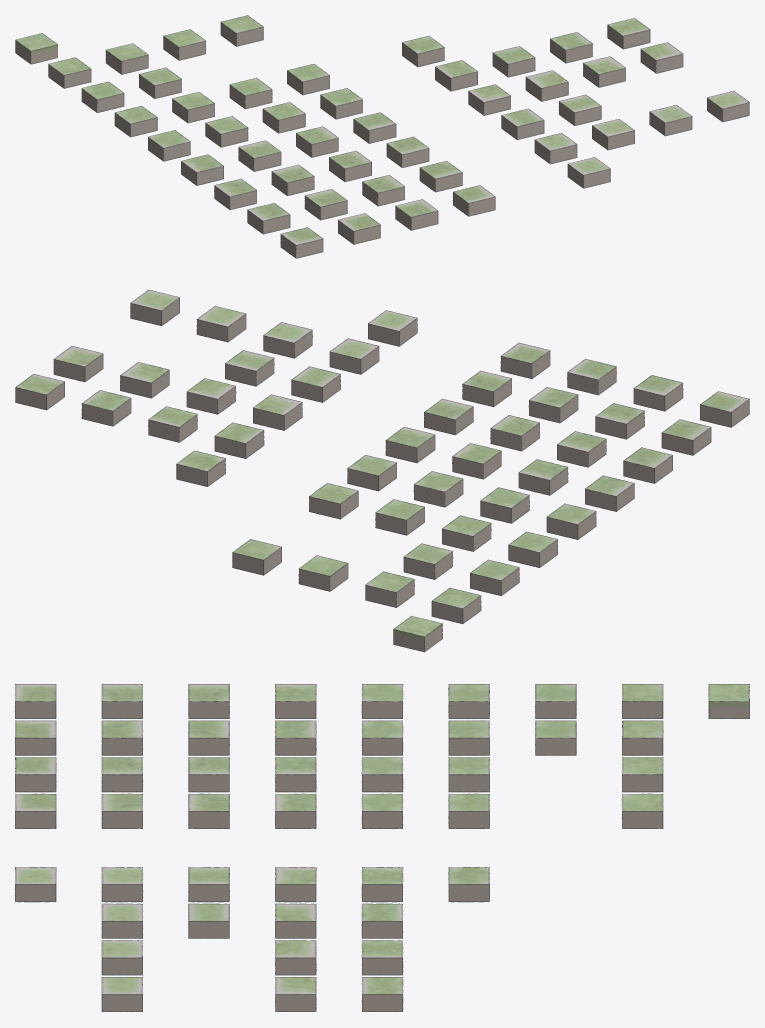
File: Grass.fbx
3 renders of one model, top to bottom at view 1: azimuth 30°, elevation 25°; view 2: azimuth 150°, elevation 25°; view 3: azimuth 270°, elevation 25°, orthographic. The views are drawn at different scales.
Visible parts, largest first — view 1: Grass-8, Grass-29, Grass-1, Grass-36, Grass-38, Grass-5, Grass-18, Grass-20, Grass-27, Grass-33, Grass-0, Grass-3 (+35 smaller); view 2: Grass-10, Grass-20, Grass-1, Grass-32, Grass-42, Grass-31, Grass-17, Grass-11, Grass-13, Grass-29, Grass-3, Grass-19 (+35 smaller); view 3: Grass-22, Grass-25, Grass-41, Grass-44, Grass-3, Grass-9, Grass-17, Grass-18, Grass-29, Grass-30, Grass-37, Grass-38 (+35 smaller).
Boxes of the visible parts, box(x1,y1,x2,y2) form: Grass-8: box(525, 70, 568, 101); Grass-29: box(238, 140, 281, 171); Grass-1: box(534, 133, 577, 164); Grass-36: box(114, 106, 157, 137); Grass-38: box(229, 77, 272, 109); Grass-5: box(501, 108, 544, 139); Grass-18: box(395, 199, 438, 230); Grass-20: box(247, 203, 290, 234); Grass-27: box(386, 136, 429, 167); Grass-33: box(205, 116, 248, 147); Grass-0: box(567, 157, 610, 188); Grass-3: box(649, 105, 692, 136); Grass-10: box(53, 346, 103, 382); Grass-20: box(661, 419, 711, 455); Grass-1: box(329, 338, 379, 374); Grass-32: box(546, 503, 596, 539); Grass-42: box(431, 588, 481, 623); Grass-31: box(385, 427, 435, 463); Grass-17: box(633, 375, 683, 411); Grass-11: box(214, 422, 264, 458); Grass-13: box(81, 390, 131, 426); Grass-29: box(518, 459, 568, 495); Grass-3: box(196, 306, 246, 342); Grass-19: box(500, 342, 550, 378); Grass-22: box(101, 757, 143, 792); Grass-25: box(188, 720, 229, 755); Grass-41: box(535, 720, 576, 755); Grass-44: box(621, 757, 663, 792); Grass-3: box(101, 940, 142, 975); Grass-9: box(275, 940, 316, 975); Grass-17: box(15, 720, 56, 755); Grass-18: box(15, 757, 56, 792); Grass-29: box(275, 720, 316, 755); Grass-30: box(275, 757, 316, 792); Grass-37: box(448, 720, 489, 755); Grass-38: box(448, 757, 489, 792).
Bounding box in the file's own units: 8500 × 250 × 8500.
2 materials, 2 textured.
